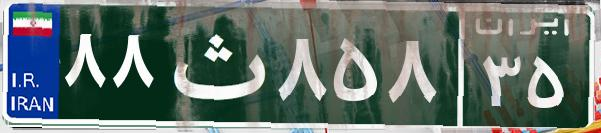3: (475, 38, 525, 113)
5: (330, 28, 385, 110), (525, 38, 570, 115)
8: (385, 28, 445, 110), (273, 28, 330, 110), (57, 26, 110, 107), (110, 28, 158, 105)
ث: (158, 15, 273, 115)
